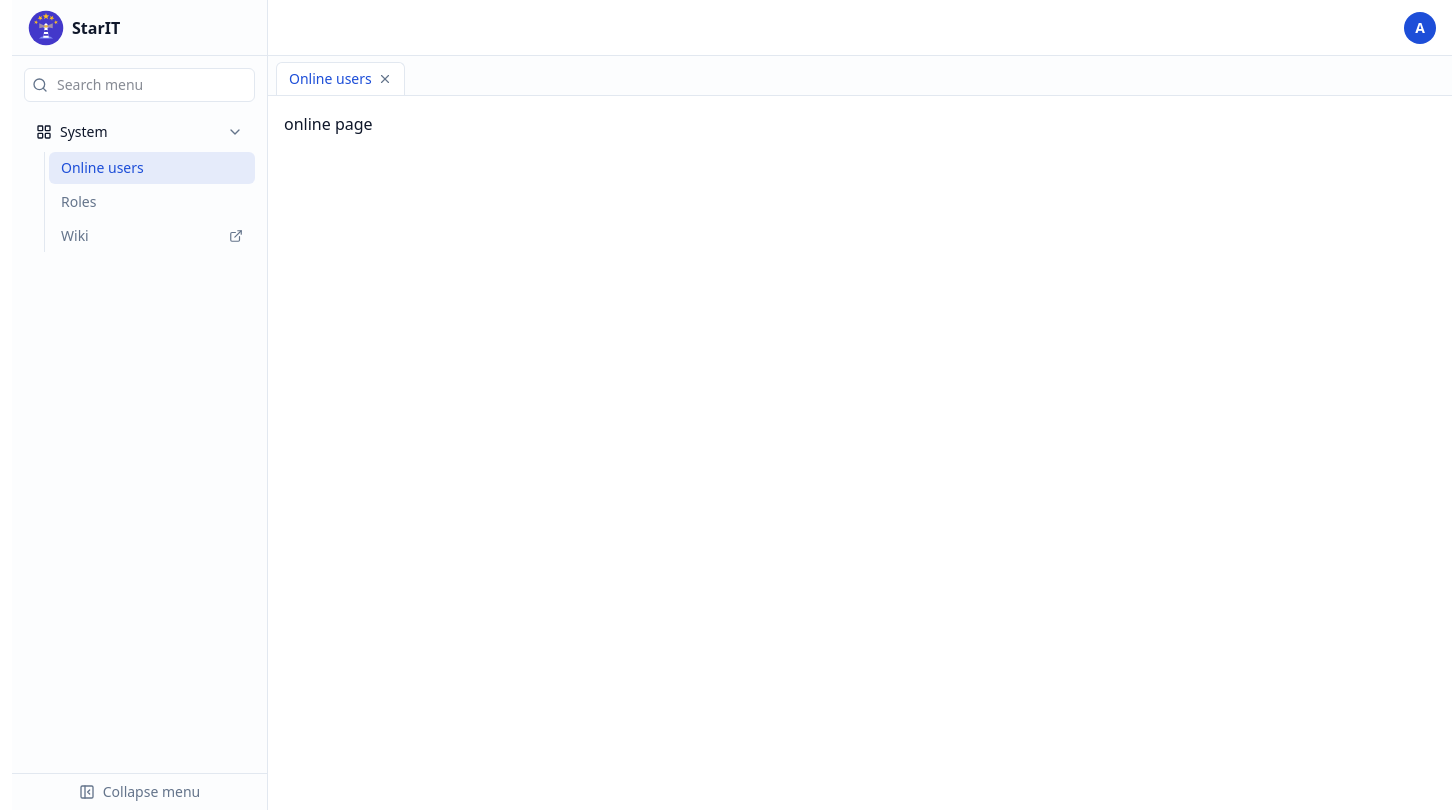
Test: MenuTreeShell › opens external links in a new window without opener access, and folds directories
The image size is (1452, 810).
Click the button "System" at (140, 132), box [24, 114, 255, 150]
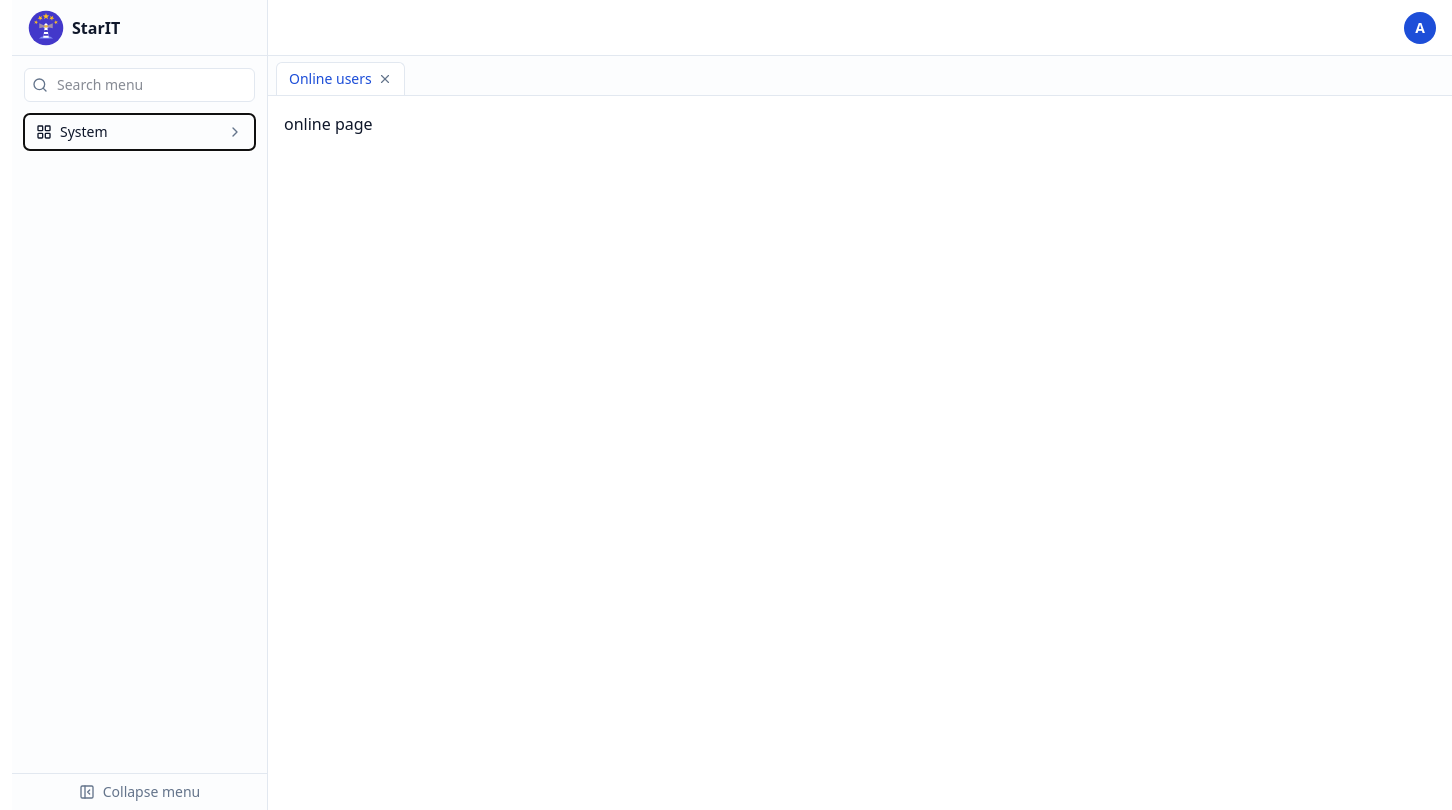
expect the link "Wiki" is gone: met
